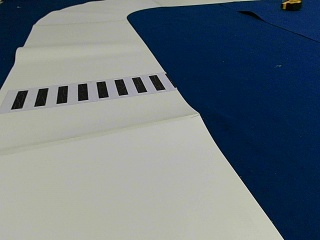crosswalk: (8, 76, 162, 108)
